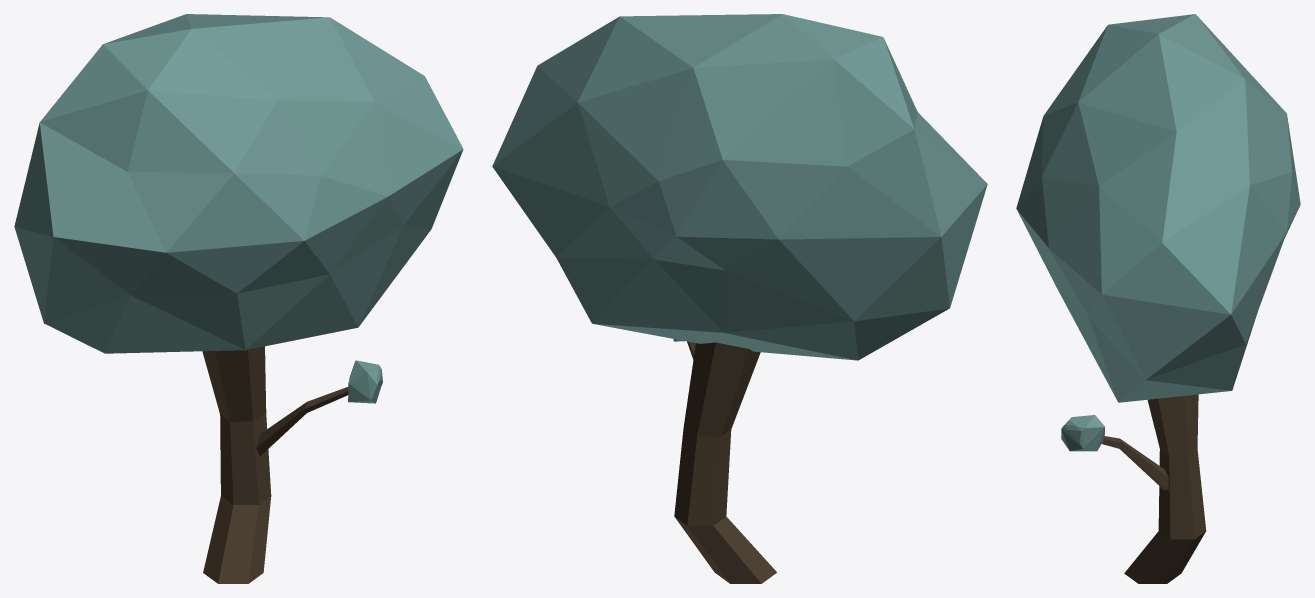
File: Tree_5_Blue.fbx
3 renders of one model, left to right at view 1: azimuth 30°, elevation 25°; view 2: azimuth 150°, elevation 25°; view 3: azimuth 270°, elevation 25°, orthographic. The views are drawn at different scales.
Parts seen in each view (by area): view 1: Tree_5_Blue_Part_2, Tree_5_Blue_Part_1, Tree_5_Blue_Part_3; view 2: Tree_5_Blue_Part_2, Tree_5_Blue_Part_1; view 3: Tree_5_Blue_Part_2, Tree_5_Blue_Part_1, Tree_5_Blue_Part_3.
Part boxes in pixels (bbox=[...]): Tree_5_Blue_Part_2: bbox=[14, 14, 463, 353]; Tree_5_Blue_Part_1: bbox=[202, 346, 348, 583]; Tree_5_Blue_Part_3: bbox=[348, 360, 382, 403]; Tree_5_Blue_Part_2: bbox=[492, 14, 987, 360]; Tree_5_Blue_Part_1: bbox=[674, 341, 776, 583]; Tree_5_Blue_Part_2: bbox=[1016, 14, 1300, 402]; Tree_5_Blue_Part_1: bbox=[1101, 394, 1206, 583]; Tree_5_Blue_Part_3: bbox=[1061, 415, 1104, 451].
Size of the model in its own units: 546 by 701 by 346.
